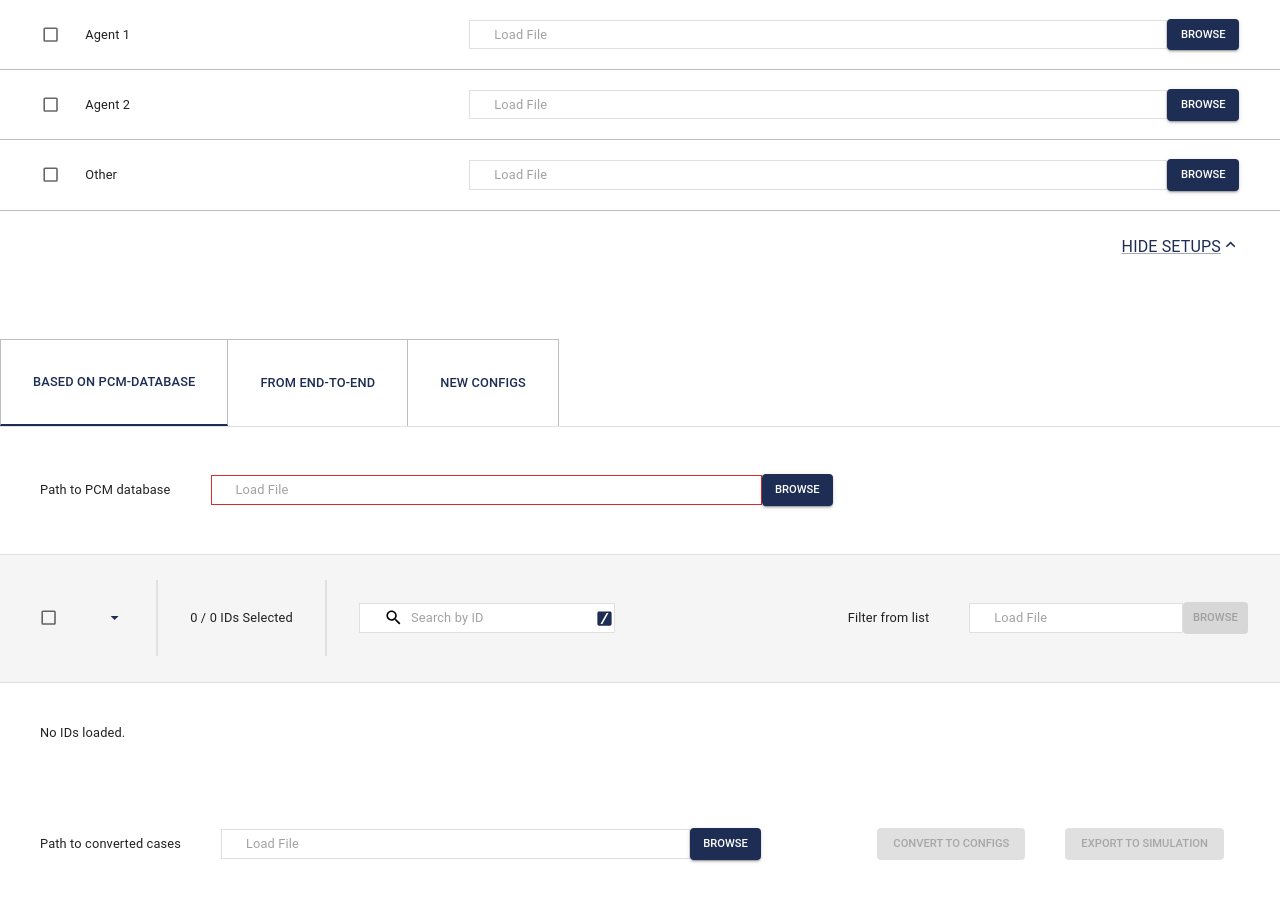
Functional Test for Setup Configs Component › Given user clicks on checkbox should open dropdown menu
Click the element with test id "test-id-box-dropdown-selector". click: (115, 618)
box: [39,608,124,628]
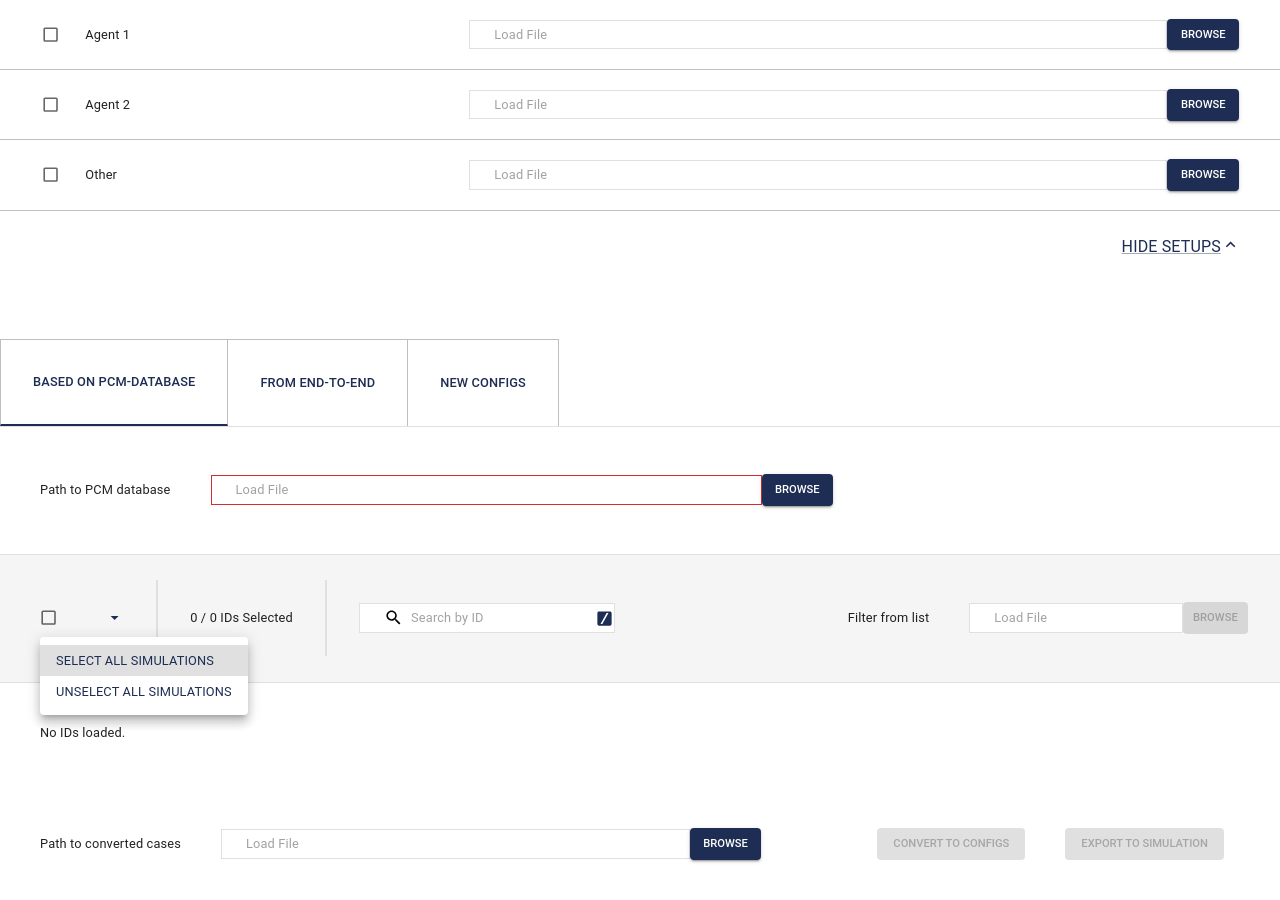
Now the element with test id "test-id-menu-dropdown" is not empty, box [40,637,248,715]
